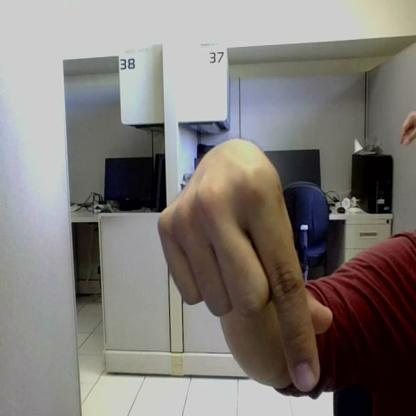Q: (158, 152, 331, 389)
